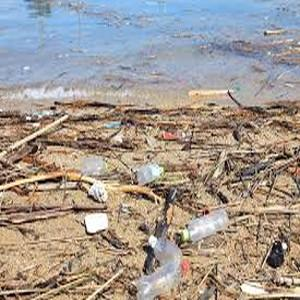Plastic: (179, 206, 231, 246), (136, 160, 166, 188), (80, 155, 111, 175)
